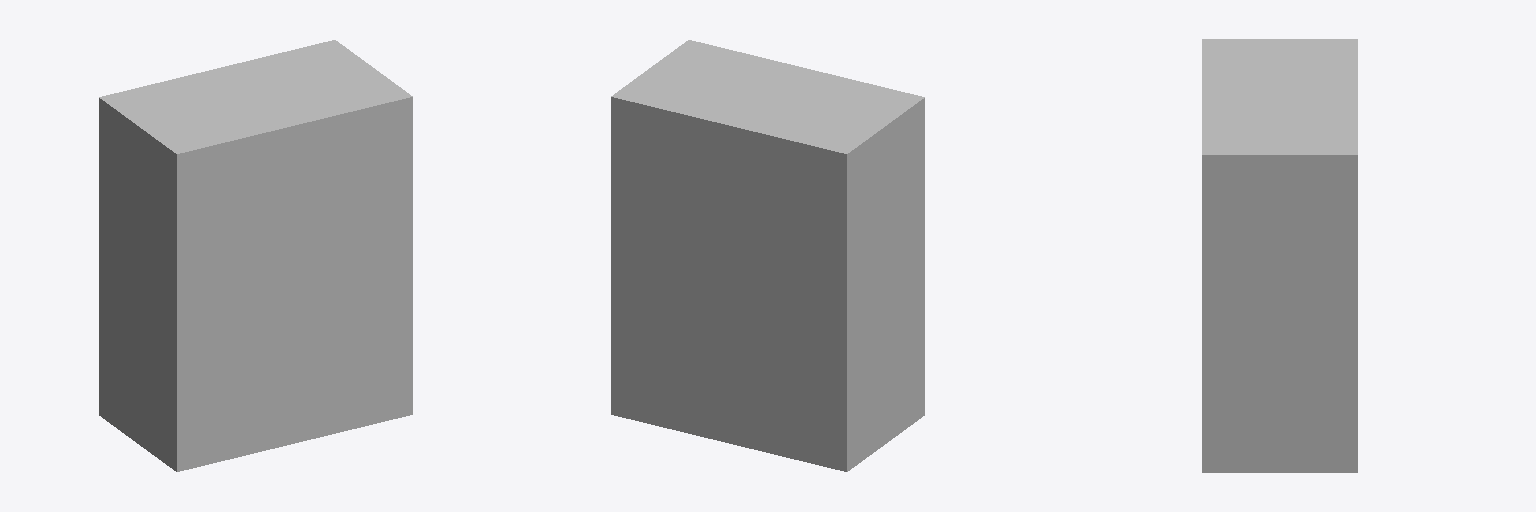
File: SmallArmorKit_LOD1.obj
3 views of the same model, side by side, from view 1: azimuth 30°, elevation 25°; view 2: azimuth 150°, elevation 25°; view 3: azimuth 270°, elevation 25° (orthographic).
Parts seen in each view (by area): view 1: object 1; view 2: object 1; view 3: object 1.
Part boxes in pixels (x1,y1,x2,y2): object 1: (99, 40, 412, 471); object 1: (611, 40, 924, 471); object 1: (1202, 39, 1357, 472).
Bounding box in the file's own units: 0.7 × 0.9 × 0.4.